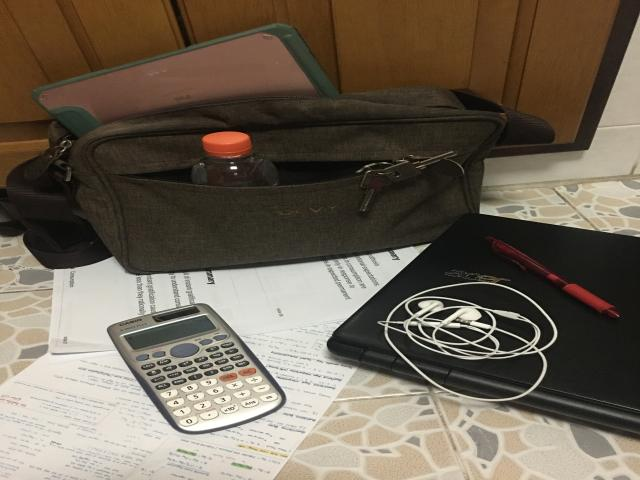Keys: (355, 152, 456, 212)
Pen: (485, 236, 620, 318)
bottle: (192, 131, 278, 187)
paper: (0, 323, 357, 480), (50, 247, 418, 353)
wire: (378, 282, 558, 401)
